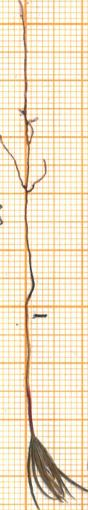flower: (19, 435, 88, 510)
root: (0, 1, 50, 316)
stem: (19, 314, 41, 431)
